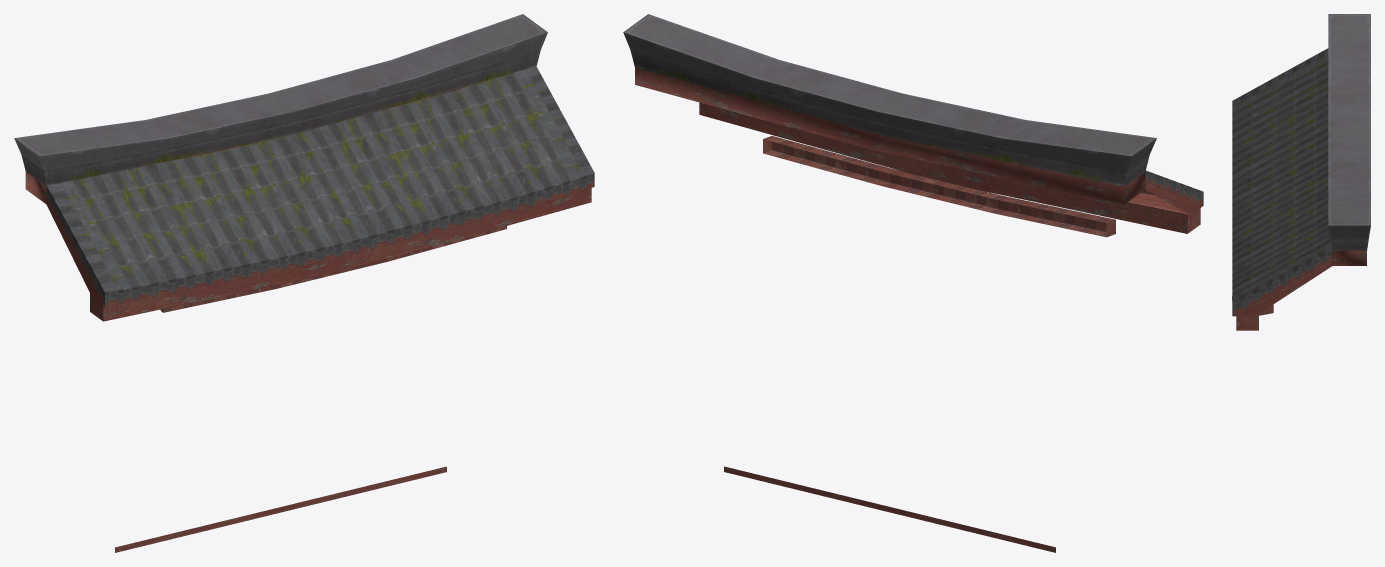
Rendered from b_zx_yuanmen01_02_lod1.FBX.
The picture shows the model from 3 angles, left to right: view 1: azimuth 30°, elevation 25°; view 2: azimuth 150°, elevation 25°; view 3: azimuth 270°, elevation 25°; orthographic projection. The views are drawn at different scales.
Parts seen in each view (by area): view 1: b_zx_yuanmen01_02_lod1; view 2: b_zx_yuanmen01_02_lod1; view 3: b_zx_yuanmen01_02_lod1.
Boxes of the visible parts, <box> form: b_zx_yuanmen01_02_lod1: <box>14,14,594,552</box>; b_zx_yuanmen01_02_lod1: <box>623,14,1203,552</box>; b_zx_yuanmen01_02_lod1: <box>1232,14,1370,330</box>.
Bounding box in the file's own units: 8.79 × 7.05 × 2.44.
